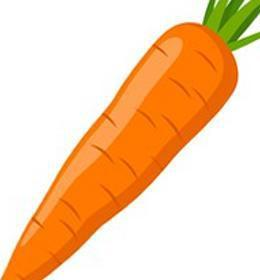carrot: (11, 6, 238, 271)
